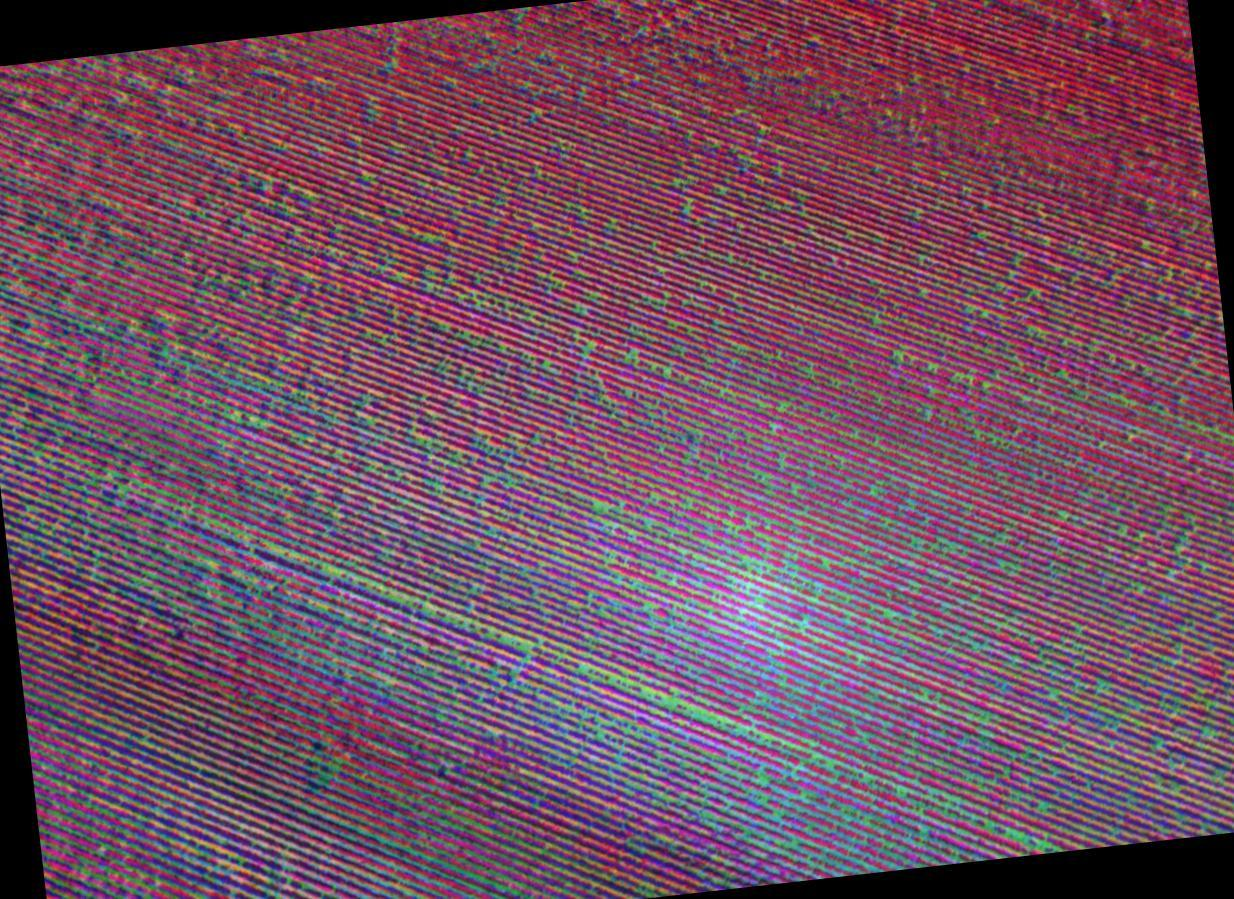dc: (673, 713, 844, 838), (386, 628, 526, 760), (691, 533, 796, 668), (216, 560, 325, 684), (21, 485, 161, 579)
